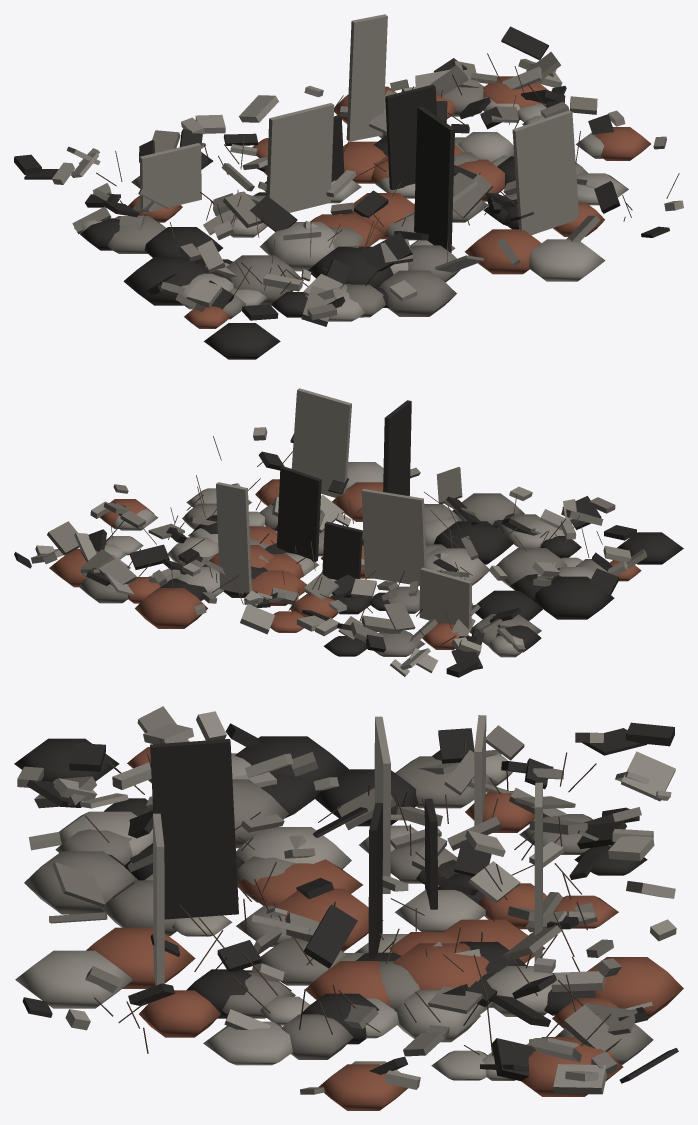
File: rubble_4x3.glb
3 renders of one model, top to bottom at view 1: azimuth 30°, elevation 25°; view 2: azimuth 150°, elevation 25°; view 3: azimuth 270°, elevation 25°, orthographic. The views are drawn at different scales.
Visible parts, largest first — view 1: rubble_4x3; view 2: rubble_4x3; view 3: rubble_4x3.
Part boxes in pixels (bbox=[...]): rubble_4x3: bbox=[14, 14, 683, 359]; rubble_4x3: bbox=[14, 388, 683, 677]; rubble_4x3: bbox=[14, 706, 683, 1110].
Size of the model in its own units: 39.36 by 10.46 by 30.47.
